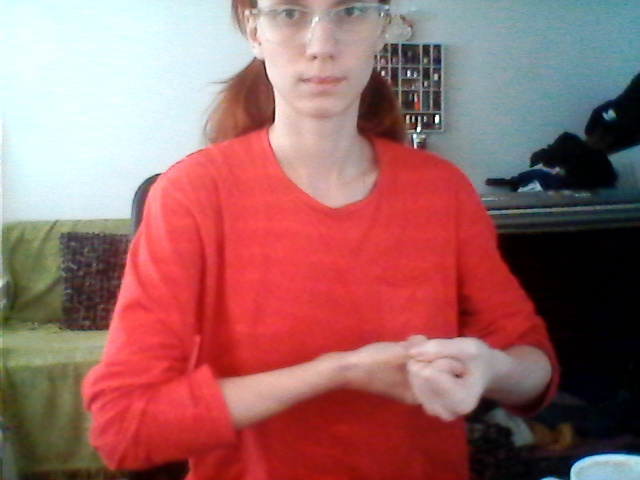hasic: (338, 305, 504, 434)
